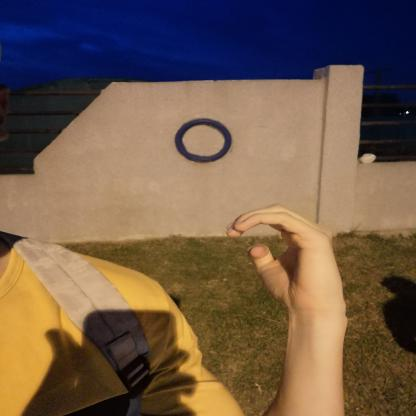JEEM: (210, 196, 361, 315)
